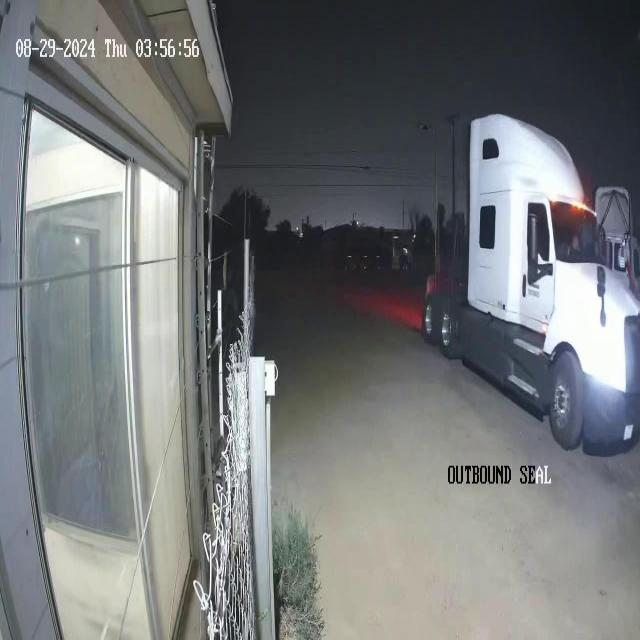BOBTAIL: (421, 110, 639, 456)
